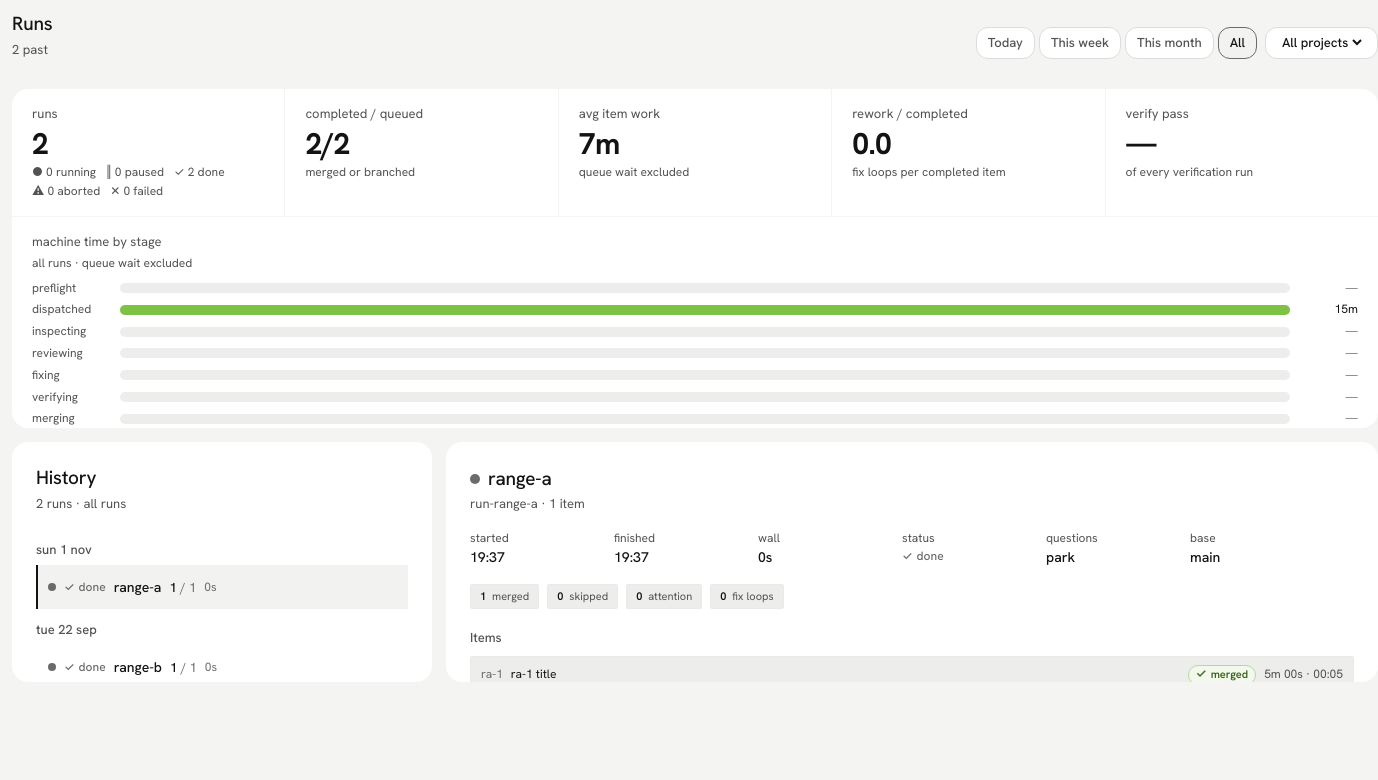
Test: RunsView › sums machine time by stage across the runs in range, in the wide tile
The image size is (1378, 780).
Expected: the element with test id "runs-list" is shown, [12,442,432,682]
Expected: the element with test id "runs-tile-machine" shows "all runs · queue wait excluded", [32,255,192,271]
What coordinates should you click on to do the following:
click the button "Today"
I would click on:
 (1005, 43)
Its box is [976,27,1035,59].
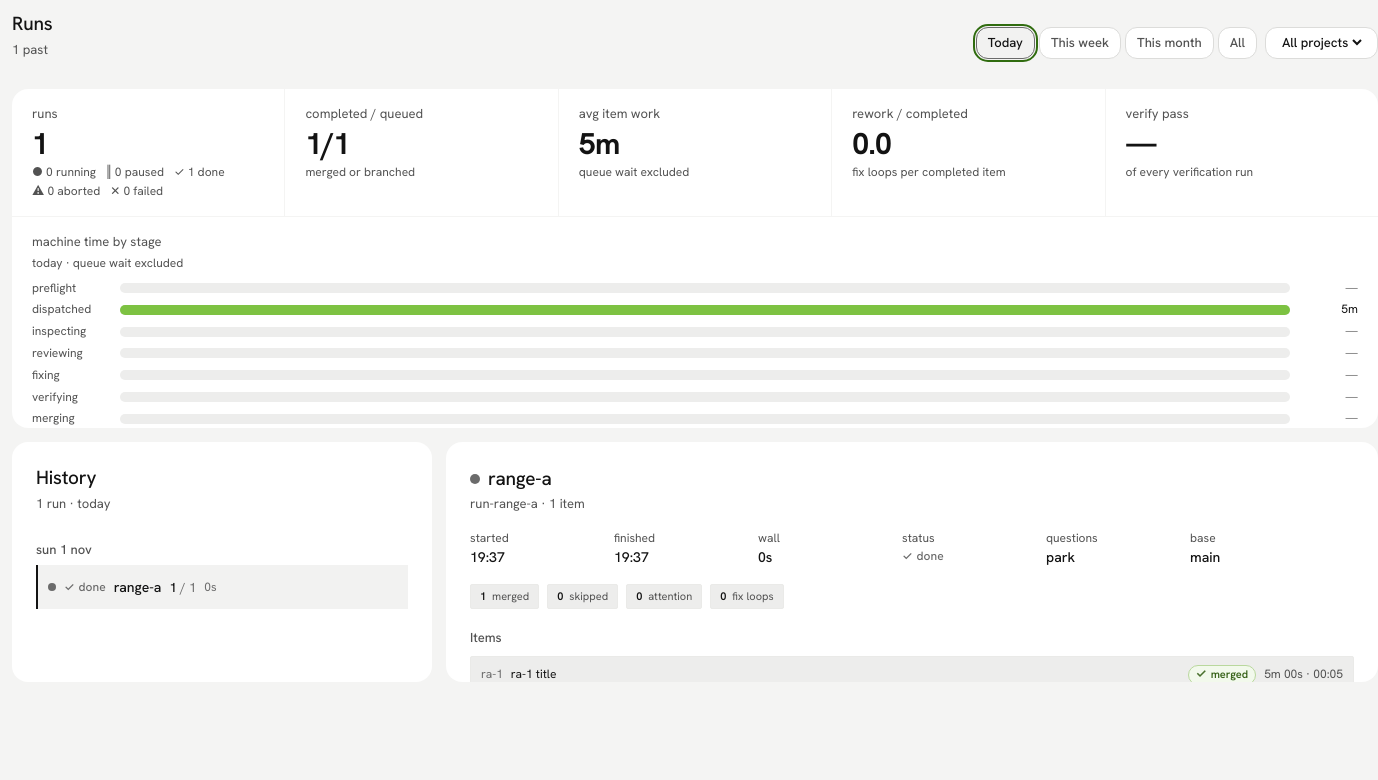
Expected: the element with test id "runs-tile-machine" shows "today · queue wait excluded", [32,255,183,271]
